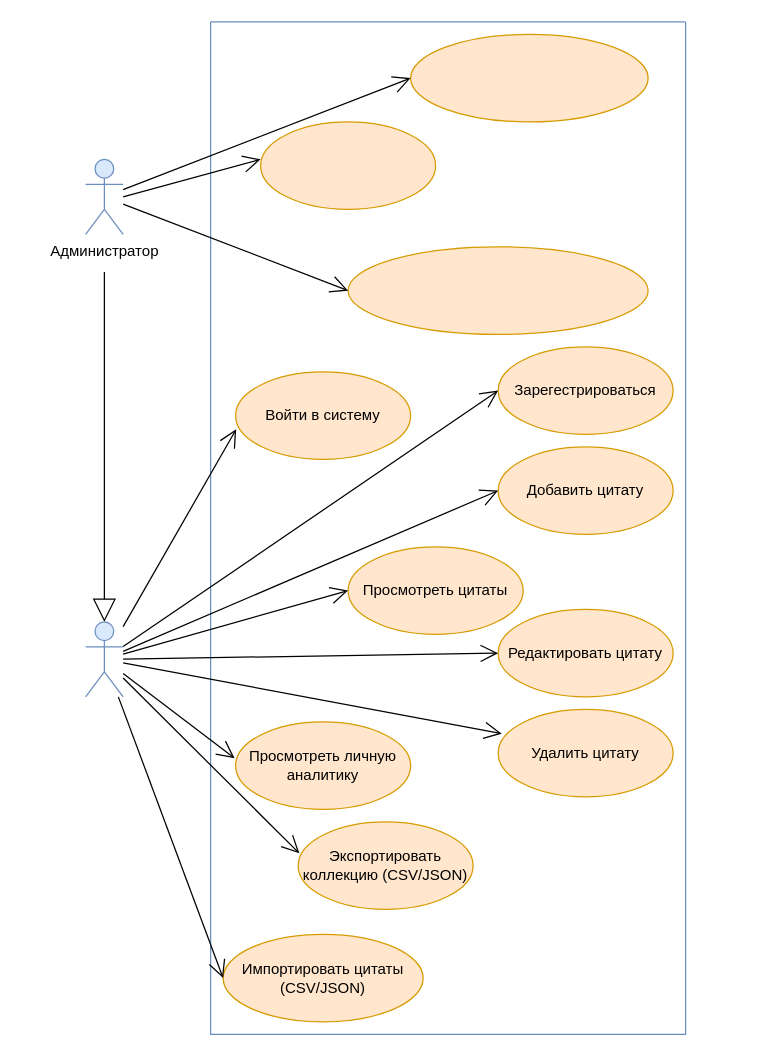
The diagram is 775 pixels wide and 1056 high, and some of its shapes have lost their labels. The shapes that lost their labels are listed below. From the top down, each one's centre as x and y in pixels, then its label:
[528,77]: Редактировать любые фильмы
[347,165]: Управлять жанрами
[497,290]: Объединять дублирующиеся записи
[103,659]: Обычный пользователь
